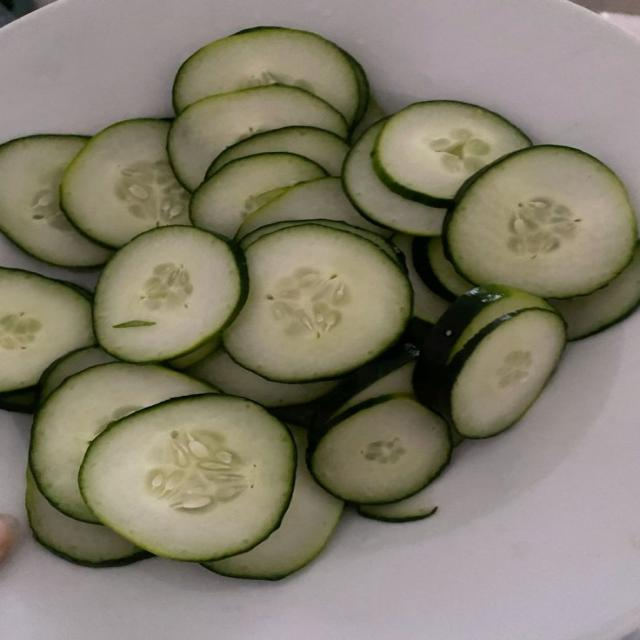cucumber sliced: (80, 395, 296, 561), (224, 224, 412, 382), (444, 146, 636, 298), (30, 363, 212, 521), (204, 426, 343, 579), (94, 226, 246, 362), (167, 85, 346, 191), (174, 27, 360, 123), (414, 286, 553, 414), (414, 286, 553, 413), (374, 100, 531, 206), (60, 119, 189, 247), (440, 309, 566, 438), (308, 395, 451, 504), (0, 135, 110, 266), (343, 121, 445, 236), (26, 472, 150, 566), (0, 268, 94, 392), (190, 153, 326, 238), (314, 335, 419, 428), (237, 177, 390, 238), (187, 349, 336, 407), (549, 245, 639, 339), (449, 286, 553, 360), (207, 126, 348, 177), (240, 219, 400, 260), (393, 235, 448, 324), (332, 361, 415, 418), (39, 347, 115, 403), (411, 237, 474, 301), (358, 487, 437, 522), (341, 49, 370, 129), (167, 334, 221, 369), (350, 97, 386, 144), (0, 387, 37, 413)
